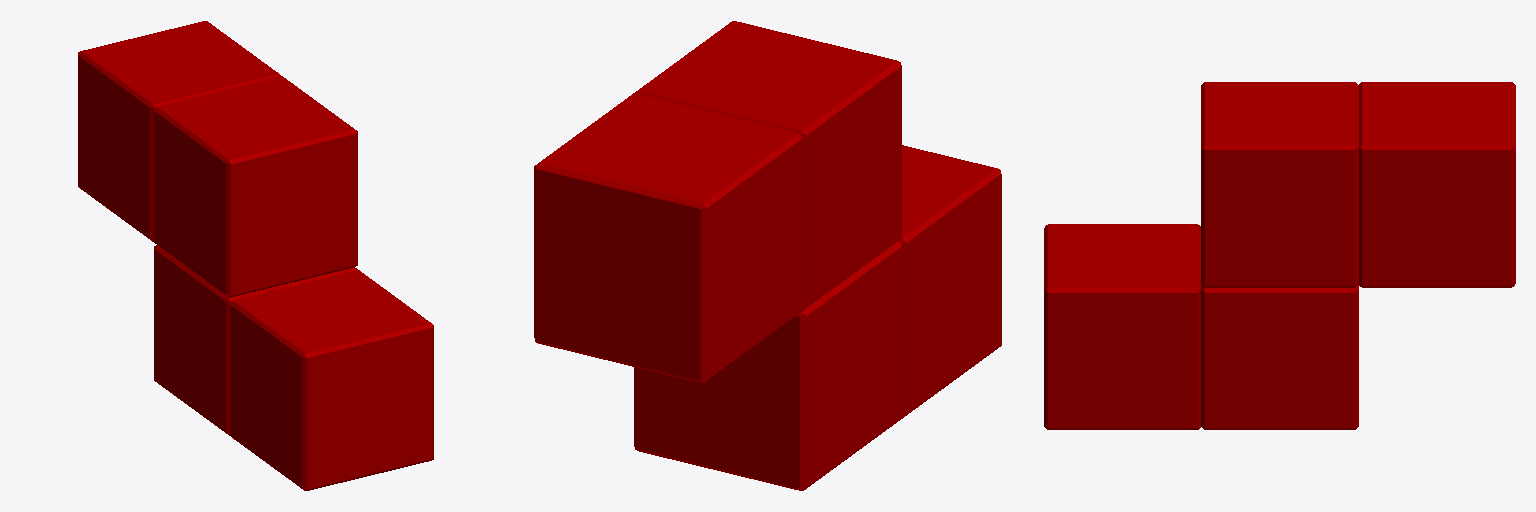
The robot description file, URDF, robot "red_block":
<?xml version="1.0"?>
<robot name="red_block">
	<link name="base_link">
		<visual>
			<geometry>
				<mesh filename="package://irsl_sim_environments/urdf/puzzle_blocks/red_block/red_block_base_link.dae" />
			</geometry>
		</visual>
		<collision>
			<origin xyz="0.000000000000e+00 0.000000000000e+00 0.000000000000e+00" rpy="0.000000000000e+00 -0.000000000000e+00 0.000000000000e+00" />
			<geometry>
				<box size="3.000000000000e-02 3.000000000000e-02 3.000000000000e-02" />
			</geometry>
		</collision>
		<collision>
			<origin xyz="0.000000000000e+00 -3.000000000000e-02 0.000000000000e+00" rpy="0.000000000000e+00 -0.000000000000e+00 0.000000000000e+00" />
			<geometry>
				<box size="3.000000000000e-02 3.000000000000e-02 3.000000000000e-02" />
			</geometry>
		</collision>
		<collision>
			<origin xyz="0.000000000000e+00 0.000000000000e+00 3.000000000000e-02" rpy="0.000000000000e+00 -0.000000000000e+00 0.000000000000e+00" />
			<geometry>
				<box size="3.000000000000e-02 3.000000000000e-02 3.000000000000e-02" />
			</geometry>
		</collision>
		<collision>
			<origin xyz="0.000000000000e+00 3.000000000000e-02 3.000000000000e-02" rpy="0.000000000000e+00 -0.000000000000e+00 0.000000000000e+00" />
			<geometry>
				<box size="3.000000000000e-02 3.000000000000e-02 3.000000000000e-02" />
			</geometry>
		</collision>
		<inertial>
			<mass value="0.021599999999999998" />
			<origin xyz="0.000000000000e+00 0.000000000000e+00 1.500000000000e-02" />
			<inertia ixx="1.7819999999999995e-05" ixy="0" ixz="0" iyy="8.0999999999999987e-06" iyz="-4.8599999999999992e-06" izz="1.2959999999999998e-05" />
		</inertial>
	</link>
</robot>

--- Render facts (derived) ---
The picture shows the robot from 3 angles, left to right: view 1: azimuth 30°, elevation 25°; view 2: azimuth 150°, elevation 25°; view 3: azimuth 270°, elevation 25°; orthographic projection.
Robot: red_block — 1 links, 0 joints (none); root link base_link; default pose: every joint at zero.
Visible links, largest first — view 1: base_link; view 2: base_link; view 3: base_link.
Boxes of the visible links, x1,y1,x2,y2 form: base_link: [78, 21, 433, 490]; base_link: [534, 21, 1001, 490]; base_link: [1044, 82, 1515, 429].
Size in the robot's own frame: 0.03 by 0.09 by 0.06 metres.
1 mesh visuals loaded from 1 distinct referenced files (1 Collada DAE).